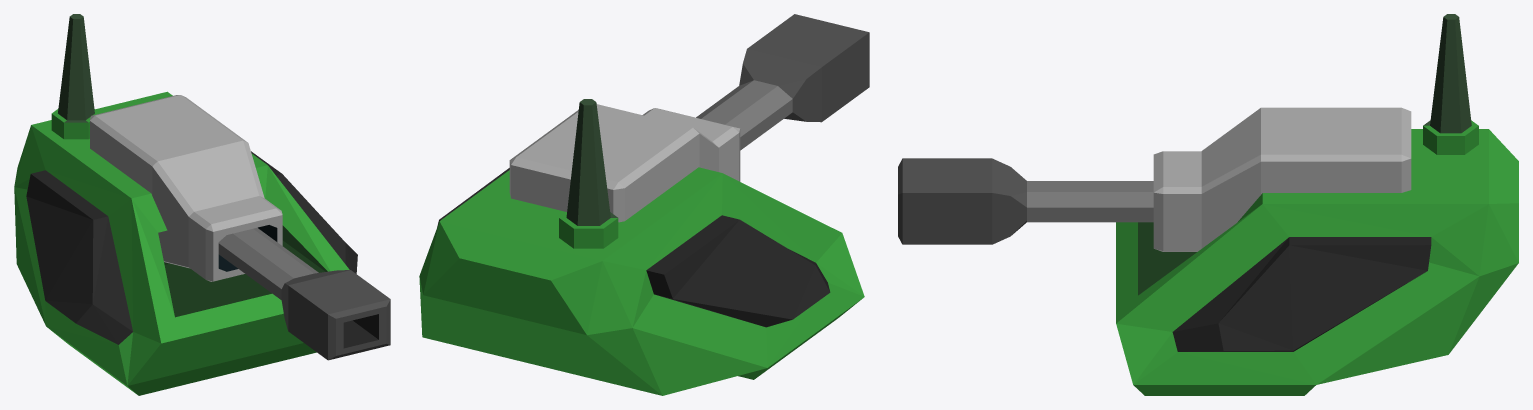
File: accurate_cannon.fbx
3 views of the same model, side by side, from view 1: azimuth 30°, elevation 25°; view 2: azimuth 150°, elevation 25°; view 3: azimuth 270°, elevation 25° (orthographic). The views are drawn at different scales.
Parts seen in each view (by area): view 1: Cube.034, Cube.036, Circle.011; view 2: Cube.034, Cube.036, Circle.011; view 3: Cube.034, Cube.036, Circle.011.
Part boxes in pixels (left/top/right/bottom): Cube.034: left=14, top=91, right=357, bottom=395; Cube.036: left=90, top=95, right=390, bottom=360; Circle.011: left=51, top=14, right=100, bottom=139; Cube.034: left=419, top=167, right=864, bottom=395; Cube.036: left=509, top=14, right=869, bottom=222; Circle.011: left=559, top=99, right=618, bottom=248; Cube.034: left=1116, top=129, right=1518, bottom=395; Cube.036: left=898, top=107, right=1411, bottom=251; Circle.011: left=1423, top=14, right=1478, bottom=154.
Bounding box in the file's own units: 96.09 × 85.32 × 163.
